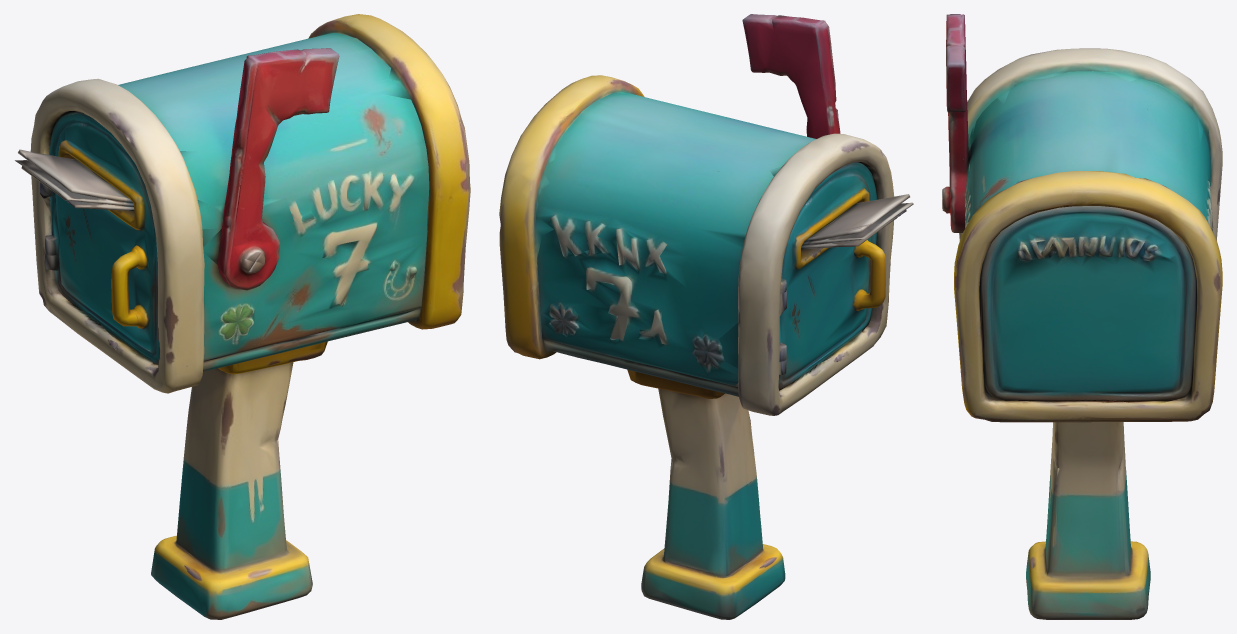
File: mailbox.glb
The picture shows the model from 3 angles, left to right: view 1: azimuth 30°, elevation 25°; view 2: azimuth 150°, elevation 25°; view 3: azimuth 270°, elevation 25°; orthographic projection. The views are drawn at different scales.
Parts seen in each view (by area): view 1: tripo_part_0, tripo_part_1, tripo_part_2, tripo_part_5, tripo_part_4; view 2: tripo_part_0, tripo_part_1, tripo_part_2, tripo_part_5, tripo_part_4; view 3: tripo_part_0, tripo_part_3, tripo_part_5, tripo_part_1, tripo_part_4.
Part boxes in pixels (bbox=[...]): tripo_part_0: bbox=[118, 33, 429, 619]; tripo_part_1: bbox=[30, 78, 223, 393]; tripo_part_2: bbox=[15, 113, 159, 364]; tripo_part_5: bbox=[308, 14, 470, 329]; tripo_part_4: bbox=[203, 48, 339, 290]; tripo_part_0: bbox=[536, 93, 816, 619]; tripo_part_1: bbox=[699, 133, 894, 415]; tripo_part_2: bbox=[778, 162, 913, 390]; tripo_part_5: bbox=[499, 75, 644, 359]; tripo_part_4: bbox=[742, 14, 840, 138]; tripo_part_0: bbox=[965, 71, 1213, 619]; tripo_part_3: bbox=[979, 206, 1197, 405]; tripo_part_5: bbox=[954, 171, 1222, 422]; tripo_part_1: bbox=[959, 48, 1222, 240]; tripo_part_4: bbox=[942, 14, 968, 232].
Bounding box in the file's own units: 0.633 × 0.9793 × 0.4434.
Materials: 1 (1 with a texture image).
